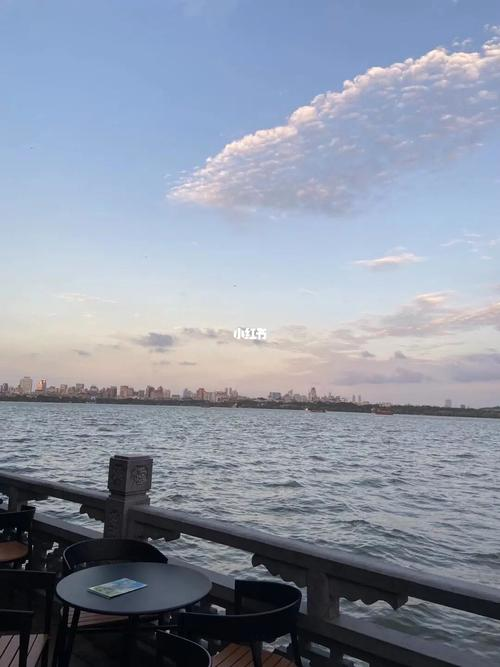sea_river: (44, 411, 498, 558)
sky_cloud: (77, 77, 481, 313)
